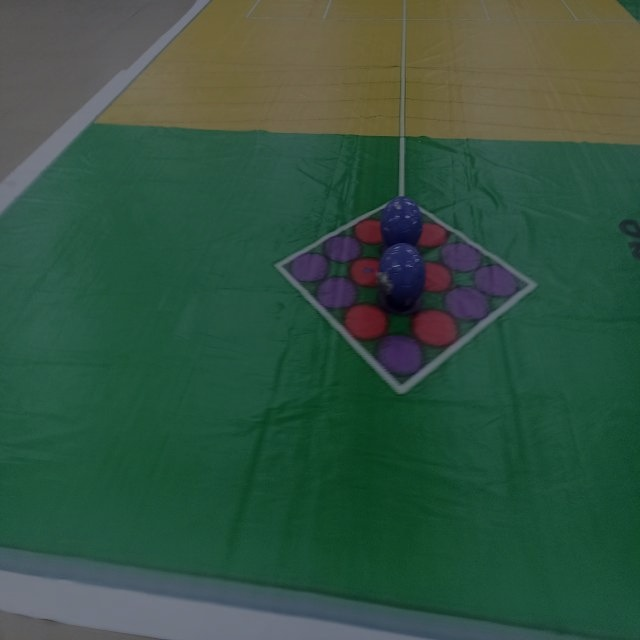purple_ball: (373, 241, 430, 316), (378, 192, 428, 250)
